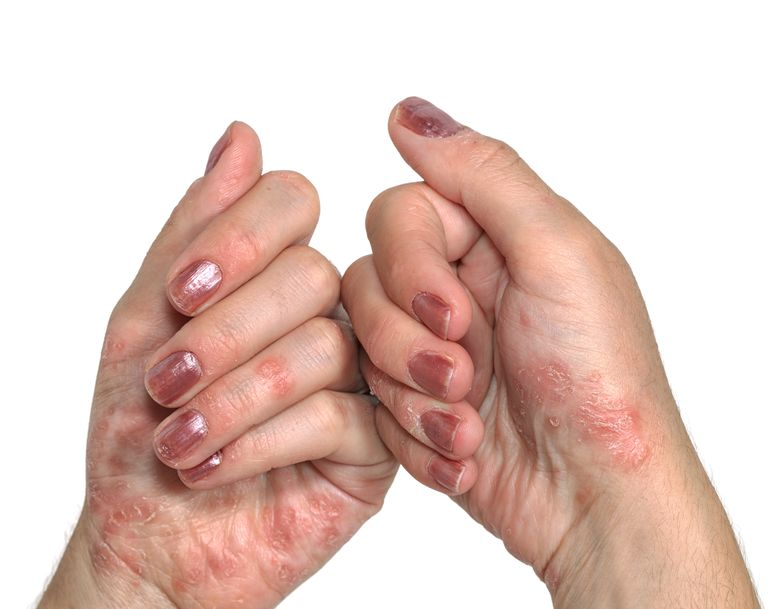Diseased: (145, 198, 659, 577)
